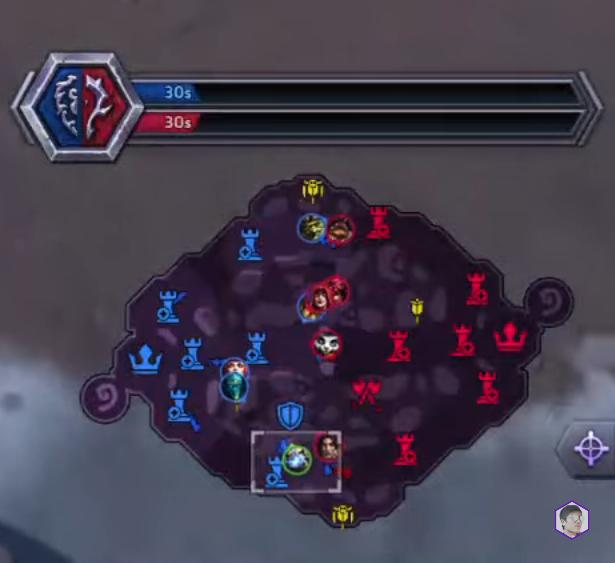blue player: (217, 356, 250, 405), (281, 442, 312, 476), (296, 212, 328, 244), (311, 288, 328, 311)
red player: (309, 327, 343, 363), (325, 214, 355, 247), (313, 432, 341, 463)
